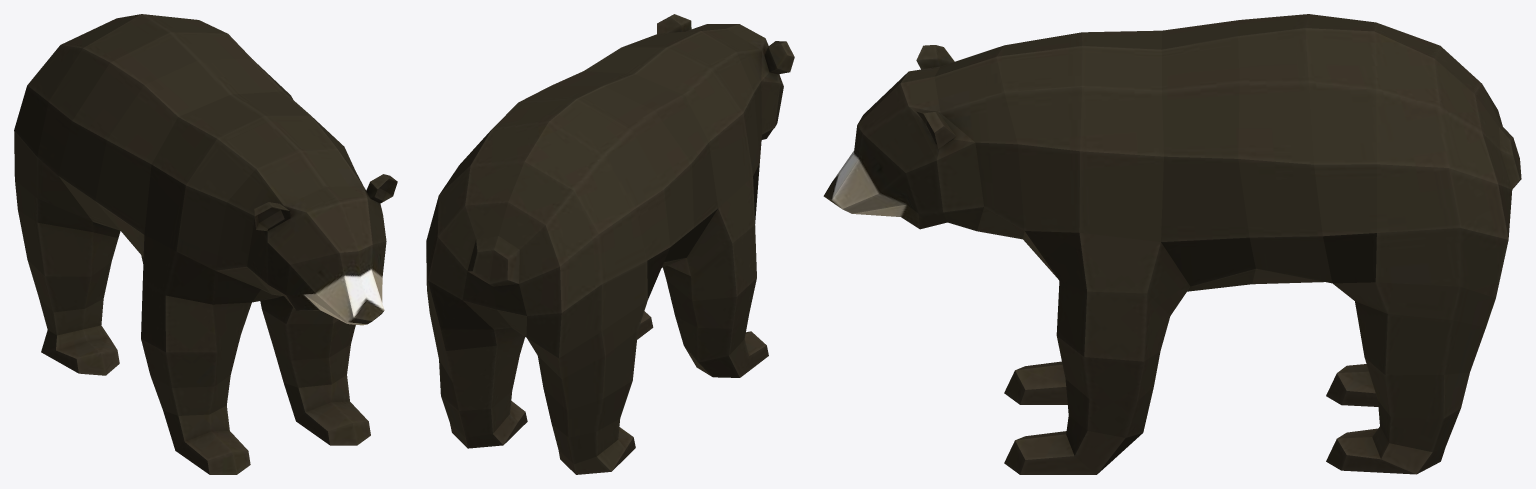
File: oso.glb
3 views of the same model, side by side, from view 1: azimuth 30°, elevation 25°; view 2: azimuth 150°, elevation 25°; view 3: azimuth 270°, elevation 25° (orthographic). The views are drawn at different scales.
Parts seen in each view (by area): view 1: BlackBear_mesh; view 2: BlackBear_mesh; view 3: BlackBear_mesh.
Part boxes in pixels (x1,y1,x2,y2): BlackBear_mesh: [14, 14, 397, 474]; BlackBear_mesh: [426, 14, 794, 474]; BlackBear_mesh: [823, 14, 1521, 474].
Size of the model in its own units: 6.68 by 10.22 by 16.13.
Materials: 1 (1 with a texture image).
